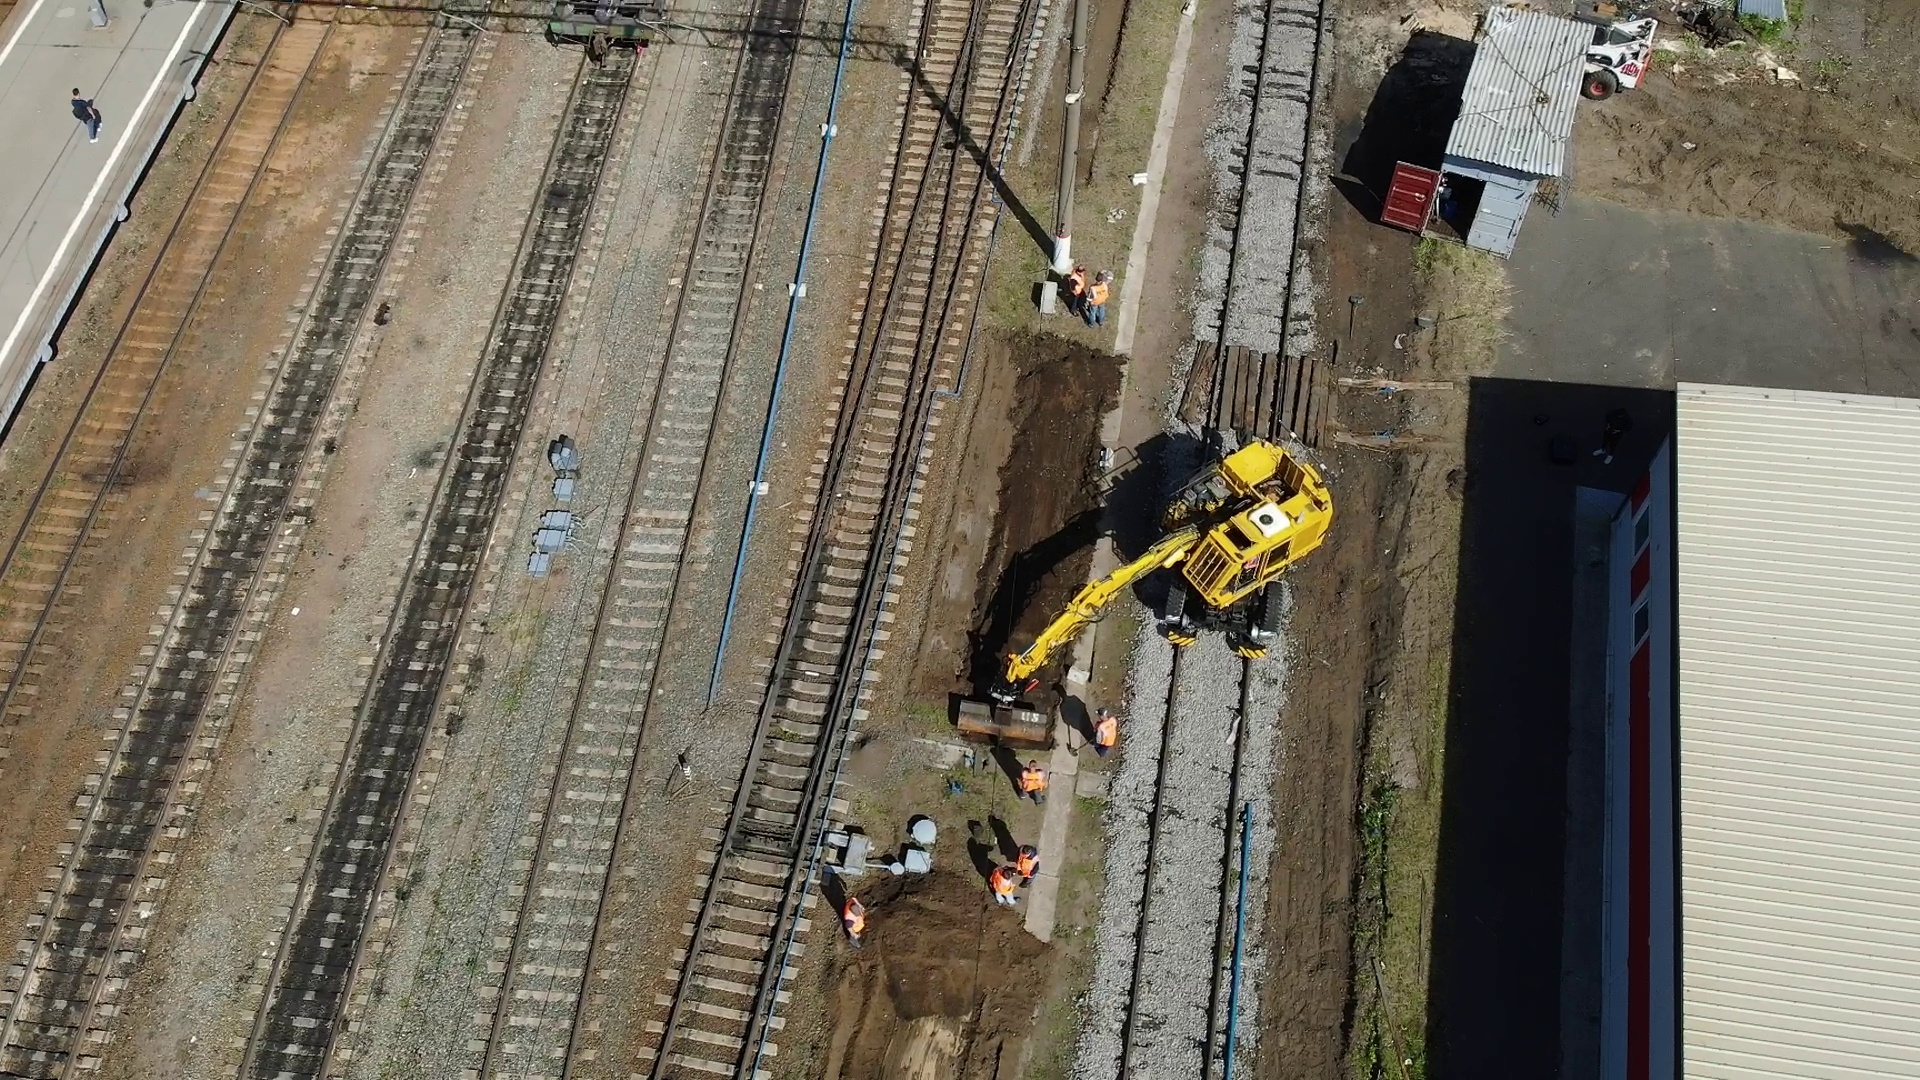kjtv: (1104, 422, 1335, 661)
